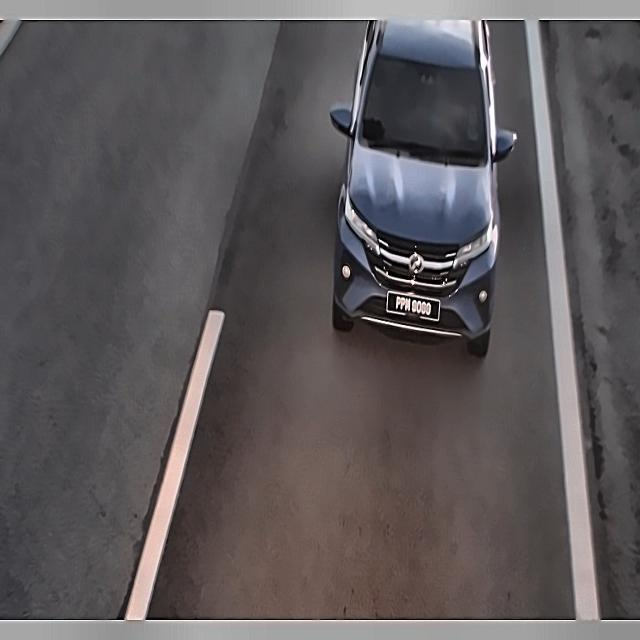car: (386, 283, 443, 331)
